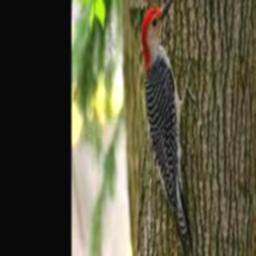Woodpecker: (141, 0, 196, 246)
